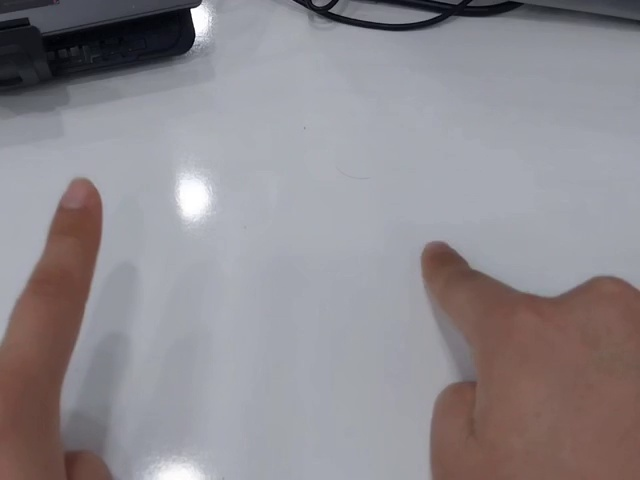fingers: (48, 176, 104, 243), (420, 240, 469, 286)
